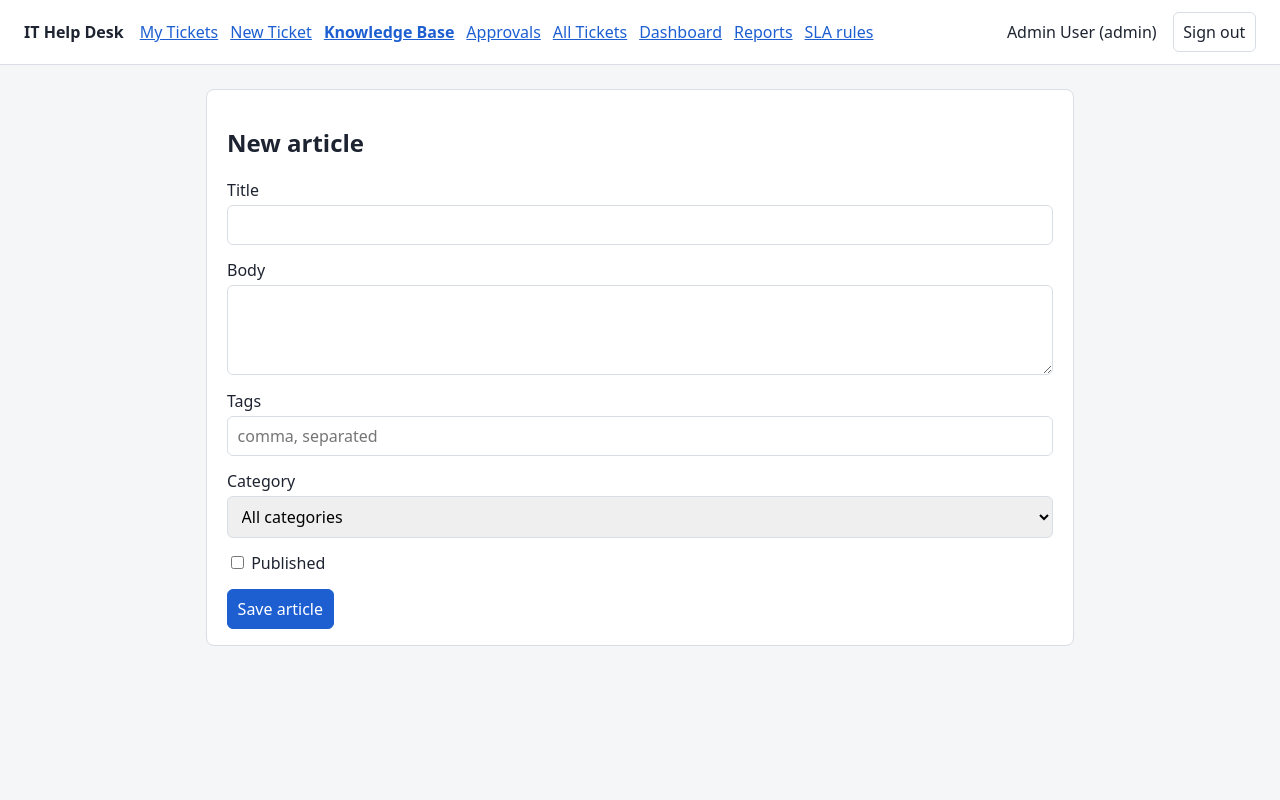
knowledge base › creates an article
The width and height of the screenshot is (1280, 800).
Type "Fix VPN" into the field labelled "Title" at point(640, 225), box [227,205,1053,245]
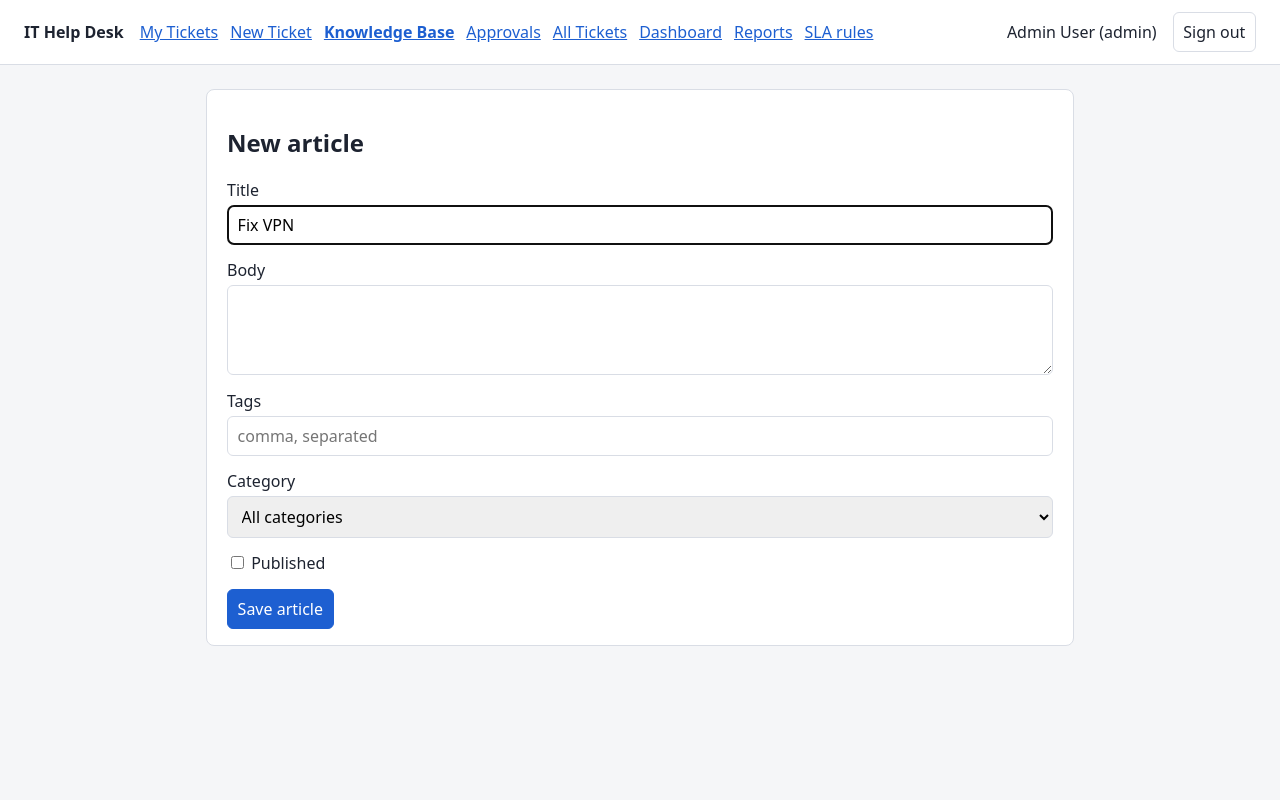
Type "Restart the client" into the text box labelled "Body" at point(640, 330), box [227,285,1053,375]
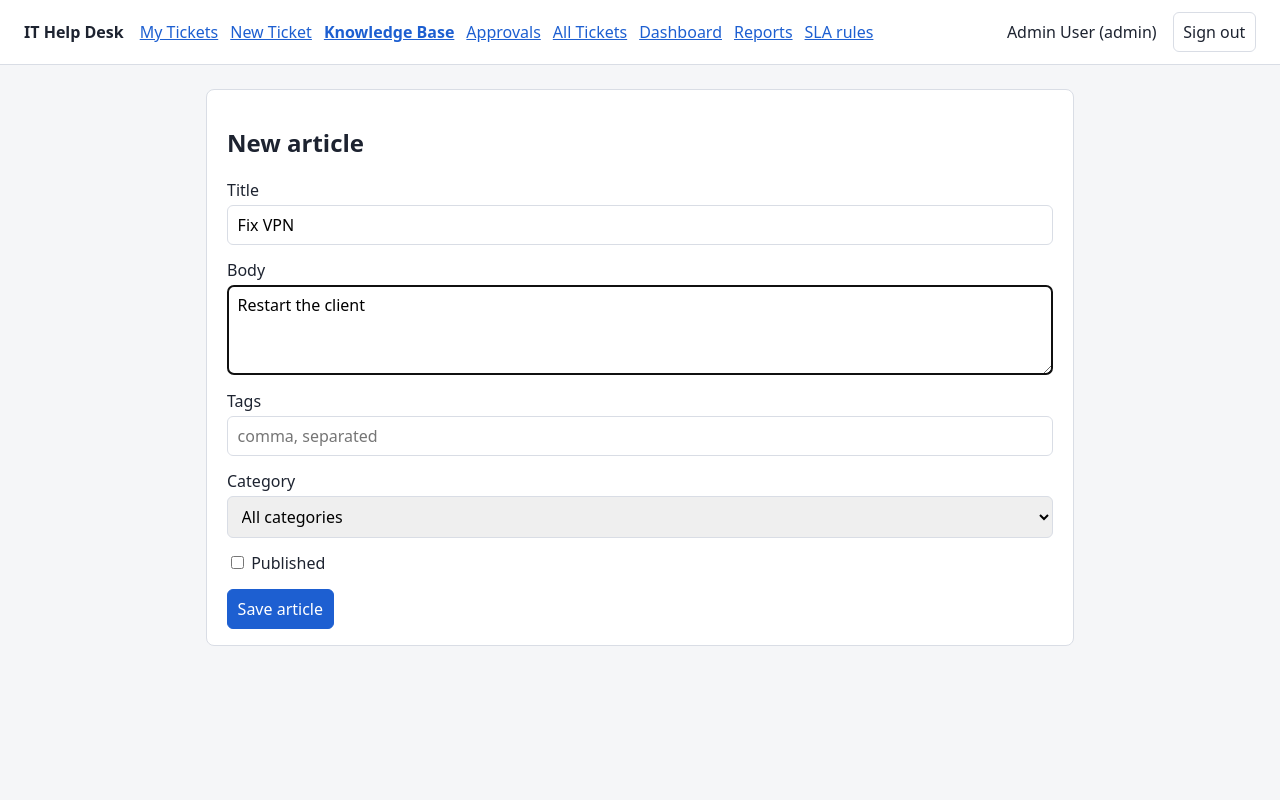
Type "vpn" into the field labelled "Tags" at point(640, 436), box [227,416,1053,456]
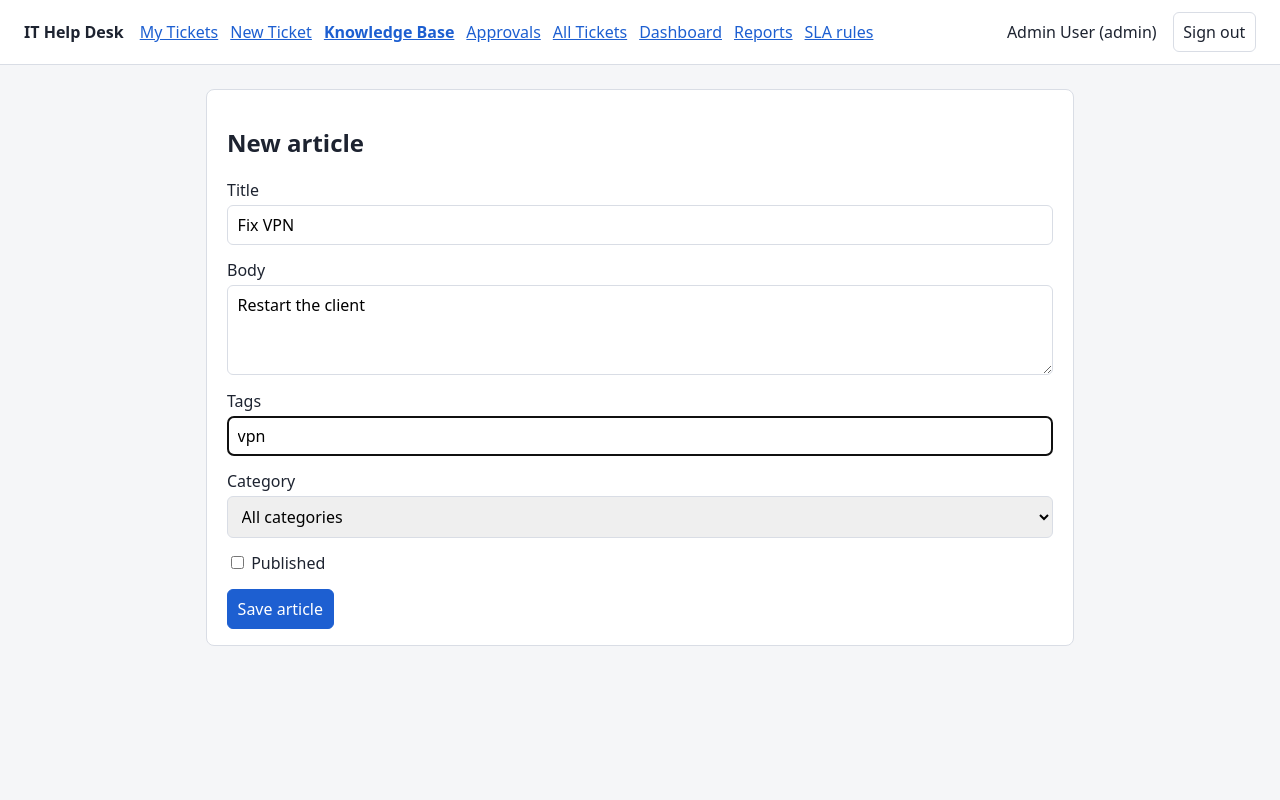
Click the checkbox labelled "Published" at point(238, 563), box [231,556,244,569]
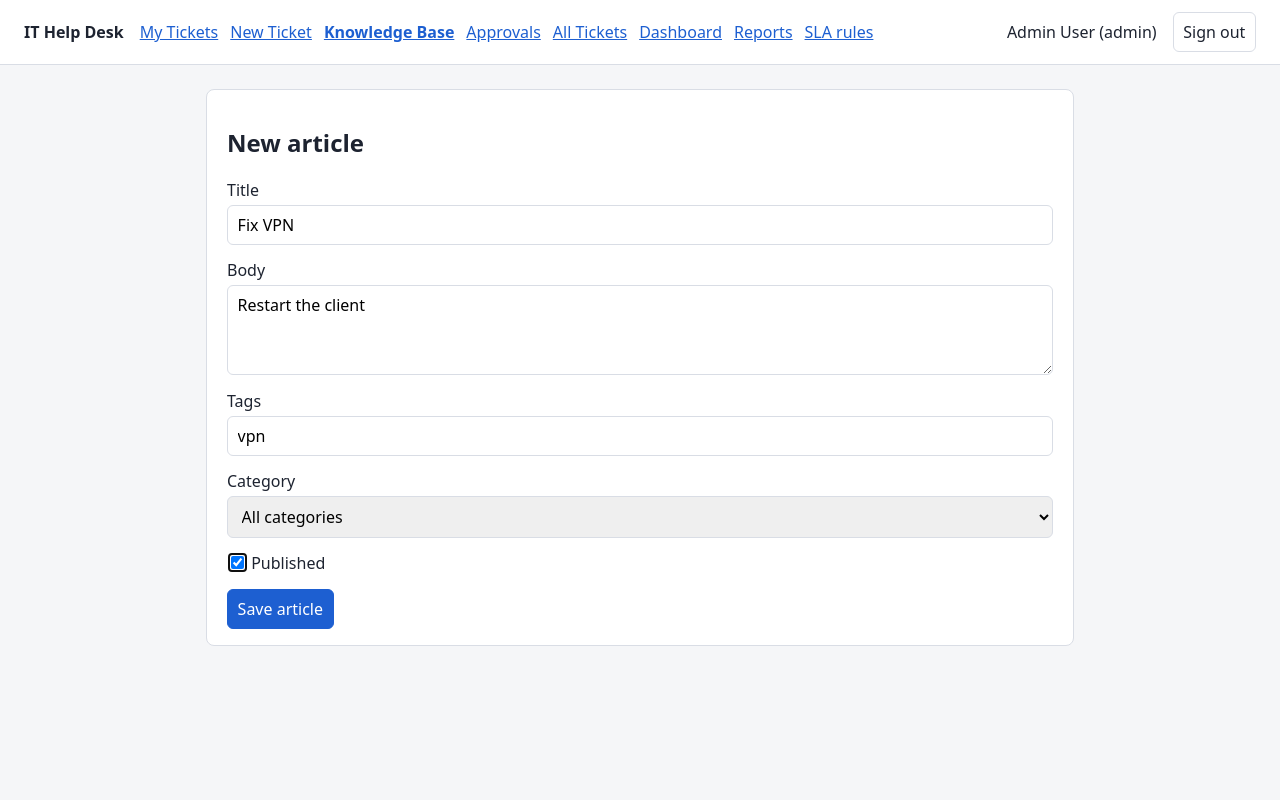
Click the button "Save article" at point(280, 609), box [227,589,334,629]
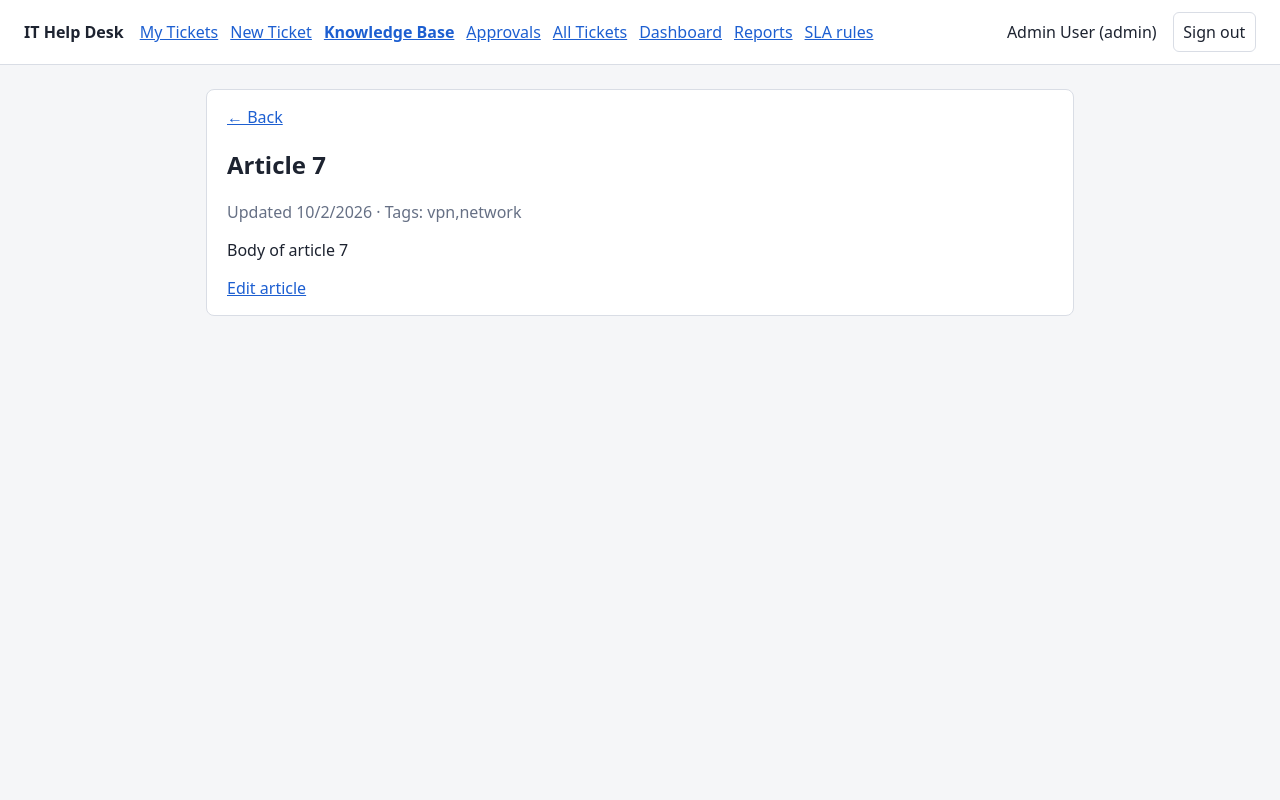
Result: the heading "Article 7" is shown at [227,148,326,181]
